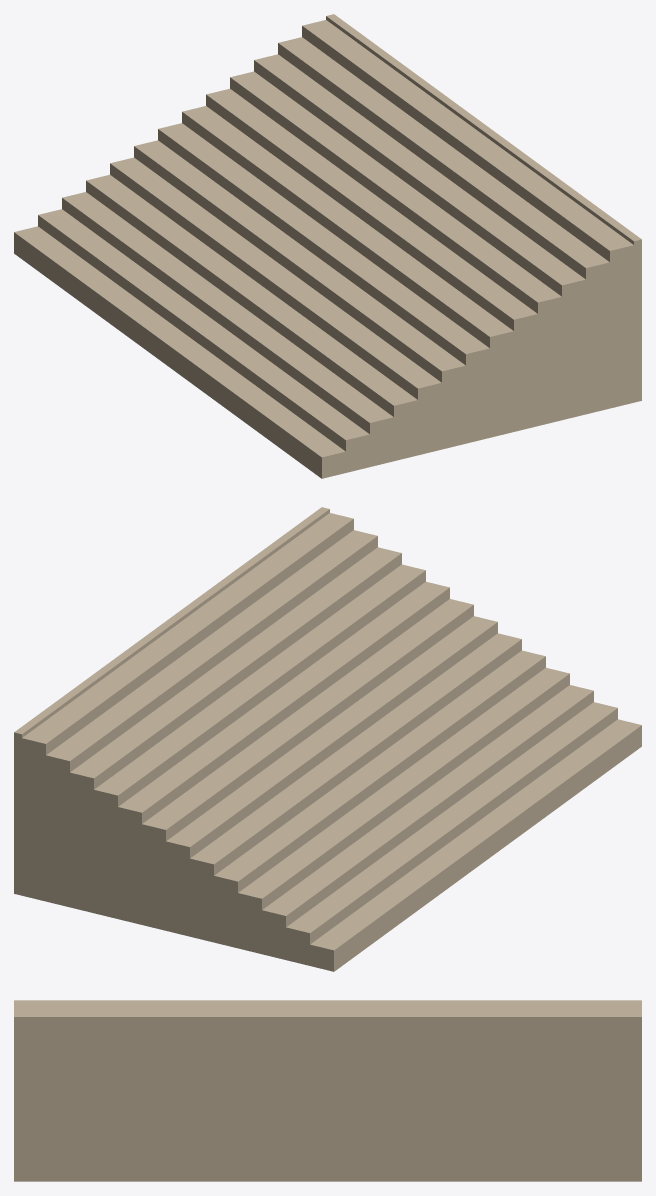
The model's file is BC_Stair_C.fbx.
3 renders of one model, top to bottom at view 1: azimuth 30°, elevation 25°; view 2: azimuth 150°, elevation 25°; view 3: azimuth 270°, elevation 25°, orthographic.
Visible parts, largest first — view 1: BC_Stair_C; view 2: BC_Stair_C; view 3: BC_Stair_C.
Part boxes in pixels (box(x1,y1,x2,y2)): BC_Stair_C: box(14, 14, 641, 478); BC_Stair_C: box(14, 507, 641, 971); BC_Stair_C: box(14, 1000, 641, 1181).
Bounding box in the file's own units: 642 × 309 × 1069.
